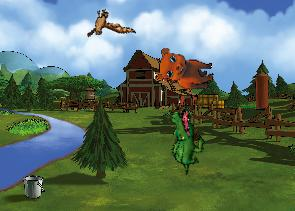bear: (156, 47, 214, 89)
crocodile: (155, 106, 215, 175)
eagle: (79, 0, 136, 50)
